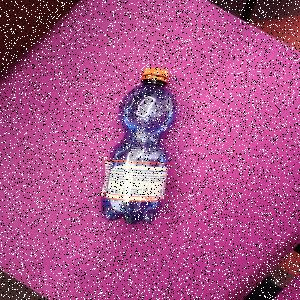Plastic-bottle: (100, 67, 180, 227)
